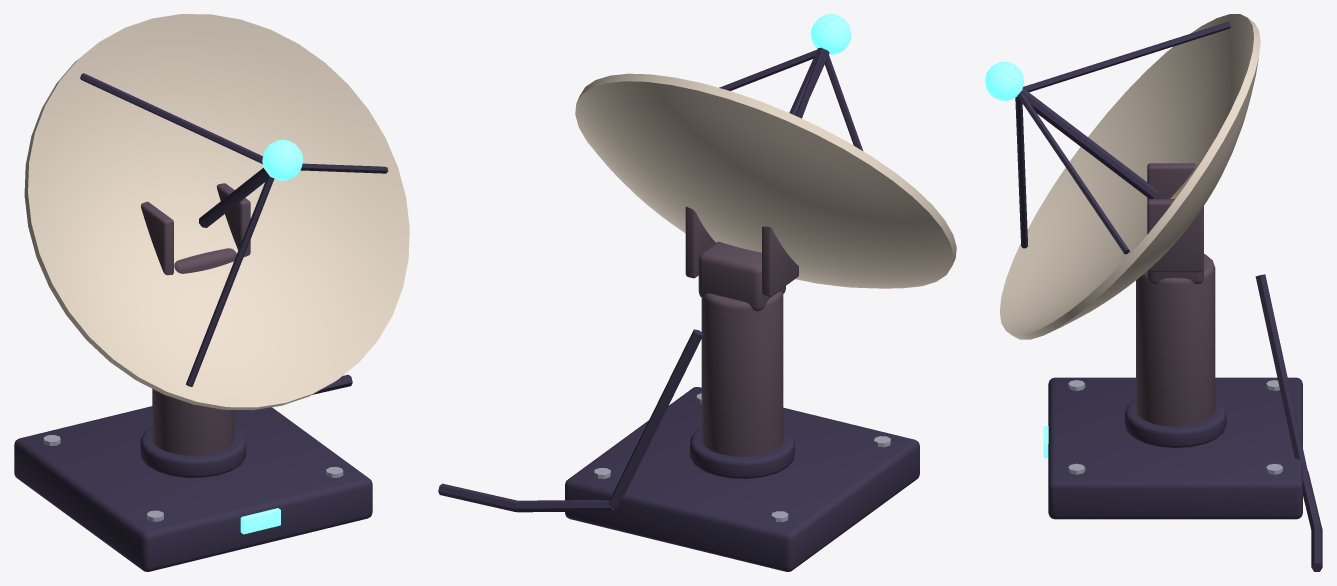
Rendered from dish_fixed.glb.
The picture shows the model from 3 angles, left to right: view 1: azimuth 30°, elevation 25°; view 2: azimuth 150°, elevation 25°; view 3: azimuth 270°, elevation 25°; orthographic projection. The views are drawn at different scales.
Parts seen in each view (by area): view 1: dish_fixed; view 2: dish_fixed; view 3: dish_fixed.
Part boxes in pixels (left/top/right/bottom): dish_fixed: left=14, top=14, right=409, bottom=571; dish_fixed: left=438, top=14, right=956, bottom=571; dish_fixed: left=985, top=14, right=1322, bottom=571.
Size of the model in its own units: 3.2 by 3.36 by 2.39.
